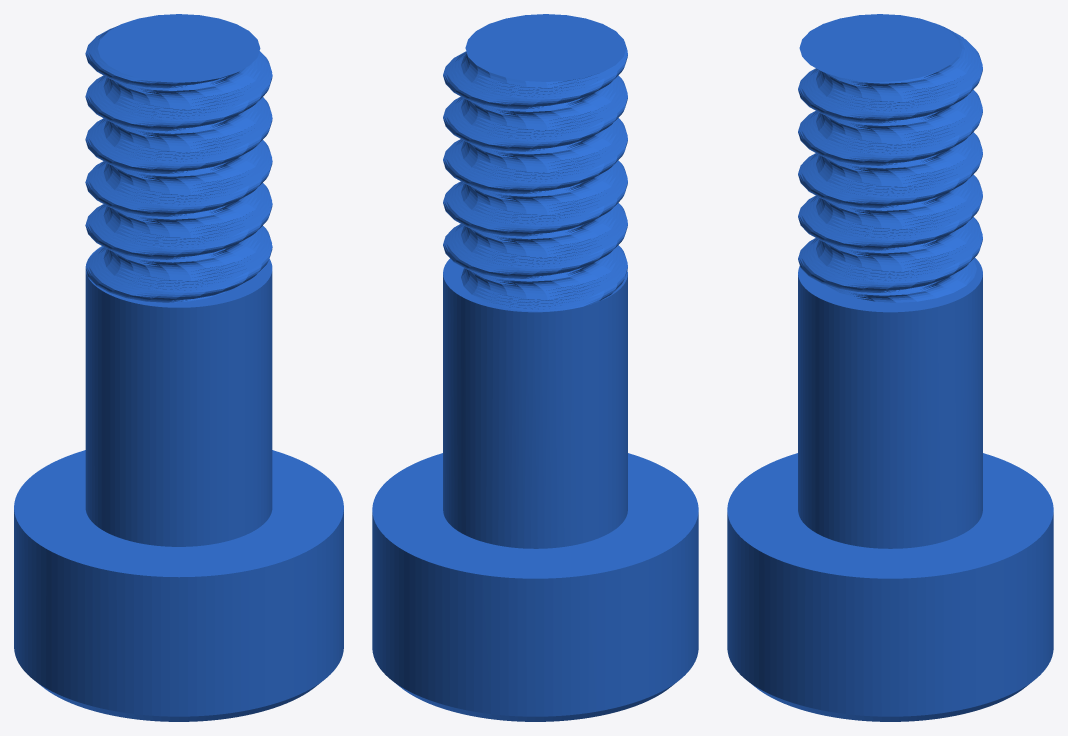
The model's file is screw_v1.dae.
3 views of the same model, side by side, from view 1: azimuth 30°, elevation 25°; view 2: azimuth 150°, elevation 25°; view 3: azimuth 270°, elevation 25° (orthographic).
Visible parts, largest first — view 1: _c643ccbc4db44196f113ea1; view 2: _c643ccbc4db44196f113ea1; view 3: _c643ccbc4db44196f113ea1.
Part boxes in pixels (left/top/right/bottom): _c643ccbc4db44196f113ea1: left=14, top=14, right=343, bottom=721; _c643ccbc4db44196f113ea1: left=372, top=14, right=698, bottom=721; _c643ccbc4db44196f113ea1: left=727, top=14, right=1053, bottom=721.
Size of the model in its own units: 0.03 by 0.03 by 0.0616.
